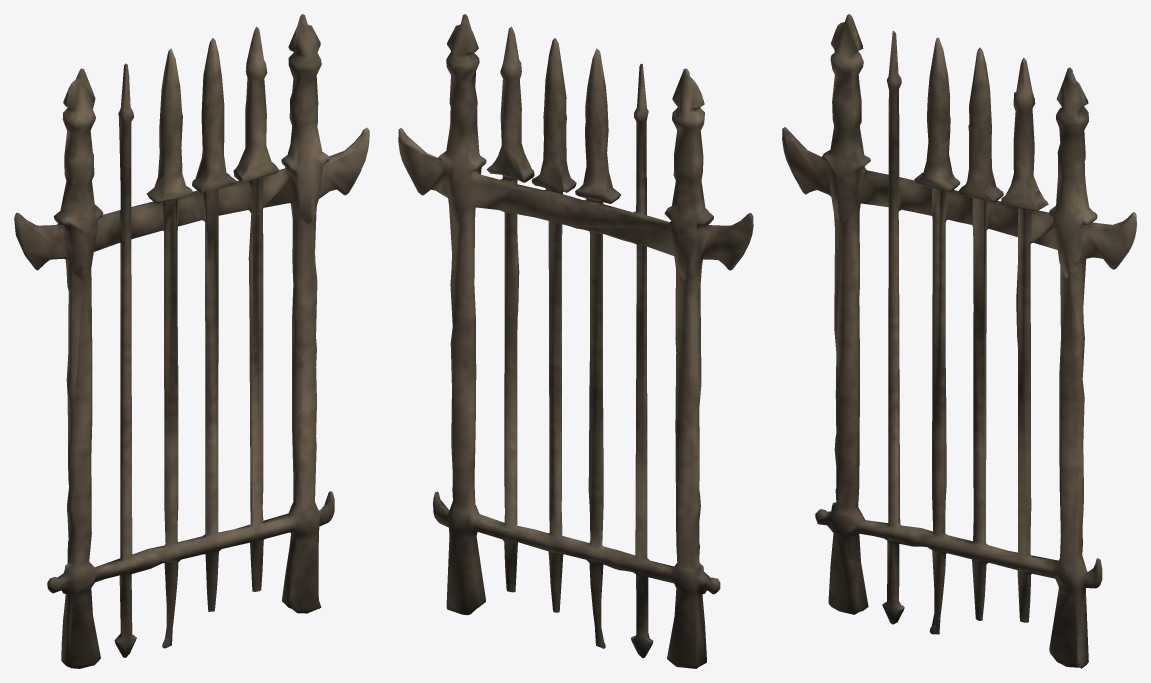
Rendered from weathered-wood-weapon-rack-v001.glb.
The picture shows the model from 3 angles, left to right: view 1: azimuth 30°, elevation 25°; view 2: azimuth 150°, elevation 25°; view 3: azimuth 330°, elevation 25°; orthographic projection.
Parts seen in each view (by area): view 1: weathered-wood-weapon-rack; view 2: weathered-wood-weapon-rack; view 3: weathered-wood-weapon-rack.
Boxes of the visible parts, x1,y1,x2,y2 form: weathered-wood-weapon-rack: (14,14,369,668); weathered-wood-weapon-rack: (398,14,753,668); weathered-wood-weapon-rack: (782,14,1136,668).
Bounding box in the file's own units: 0.8701 × 1.41 × 0.0733.
1 material, 1 textured.
